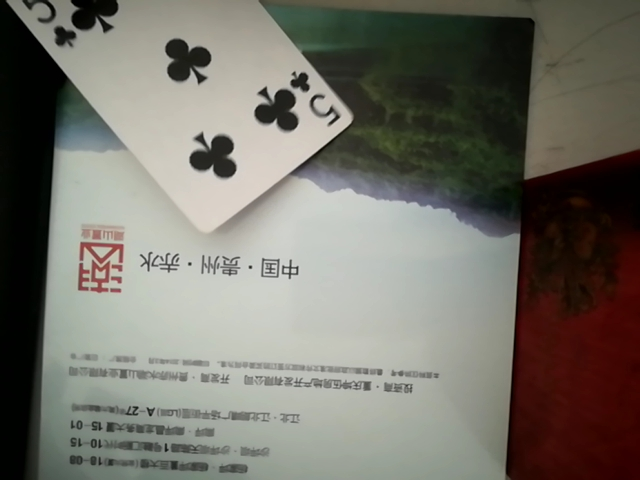mh 5: (14, 1, 358, 234)
